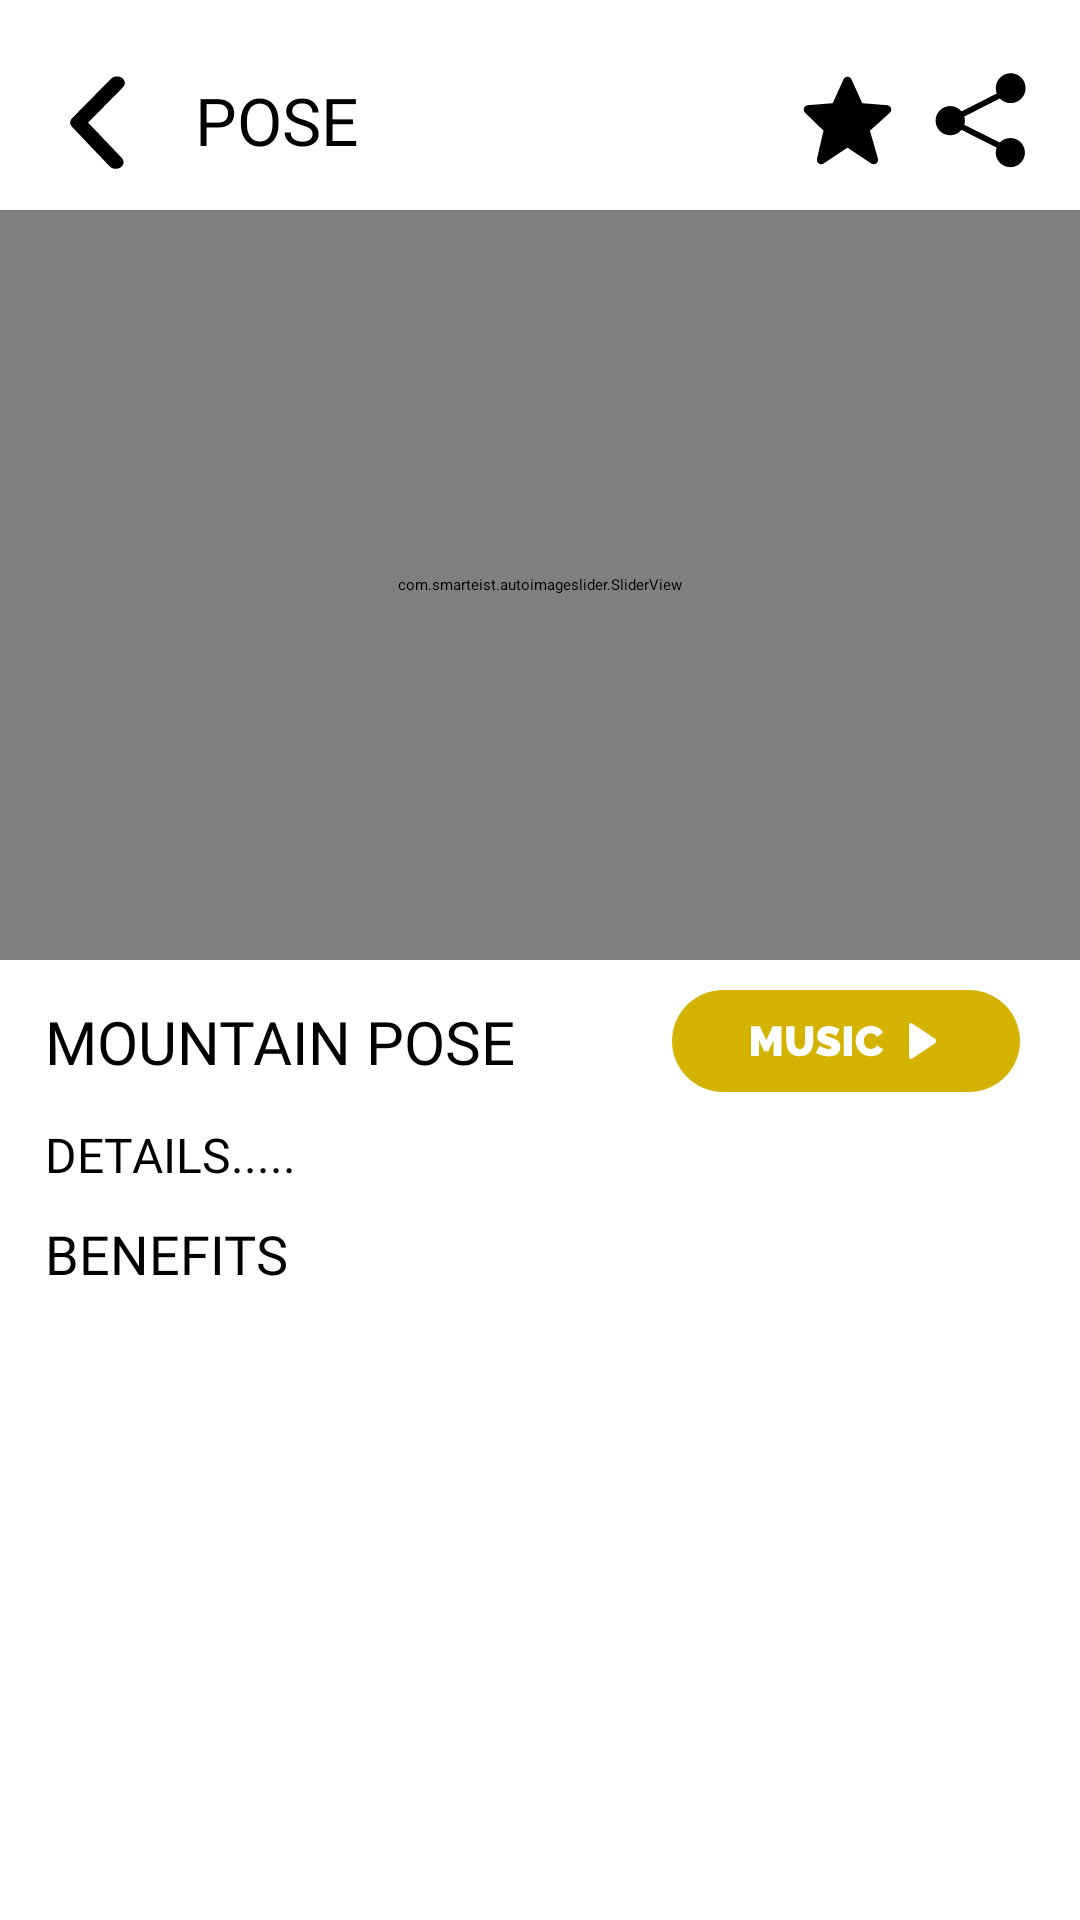

Screen size 1080*1920. Icon name, then its box in pixels as bbox=(x1, y1, x2, y2):
arrow back: bbox=(70, 76, 125, 169)
share: bbox=(935, 73, 1026, 168)
star: bbox=(803, 76, 892, 165)
